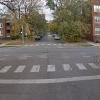Crosswalk: (4, 57, 99, 79)
